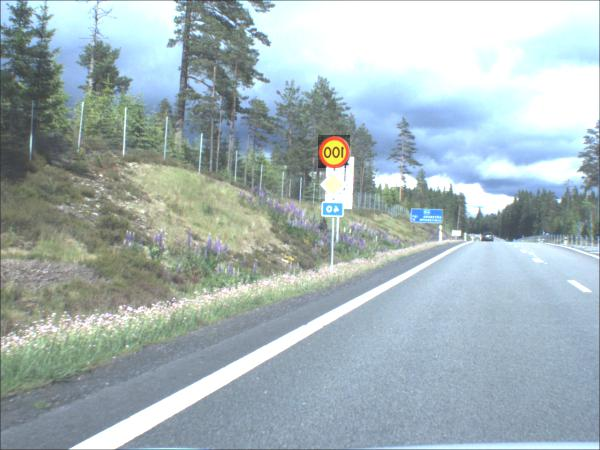100_SIGN: (318, 136, 351, 170)
PRIORITY_ROAD: (319, 172, 348, 201)
